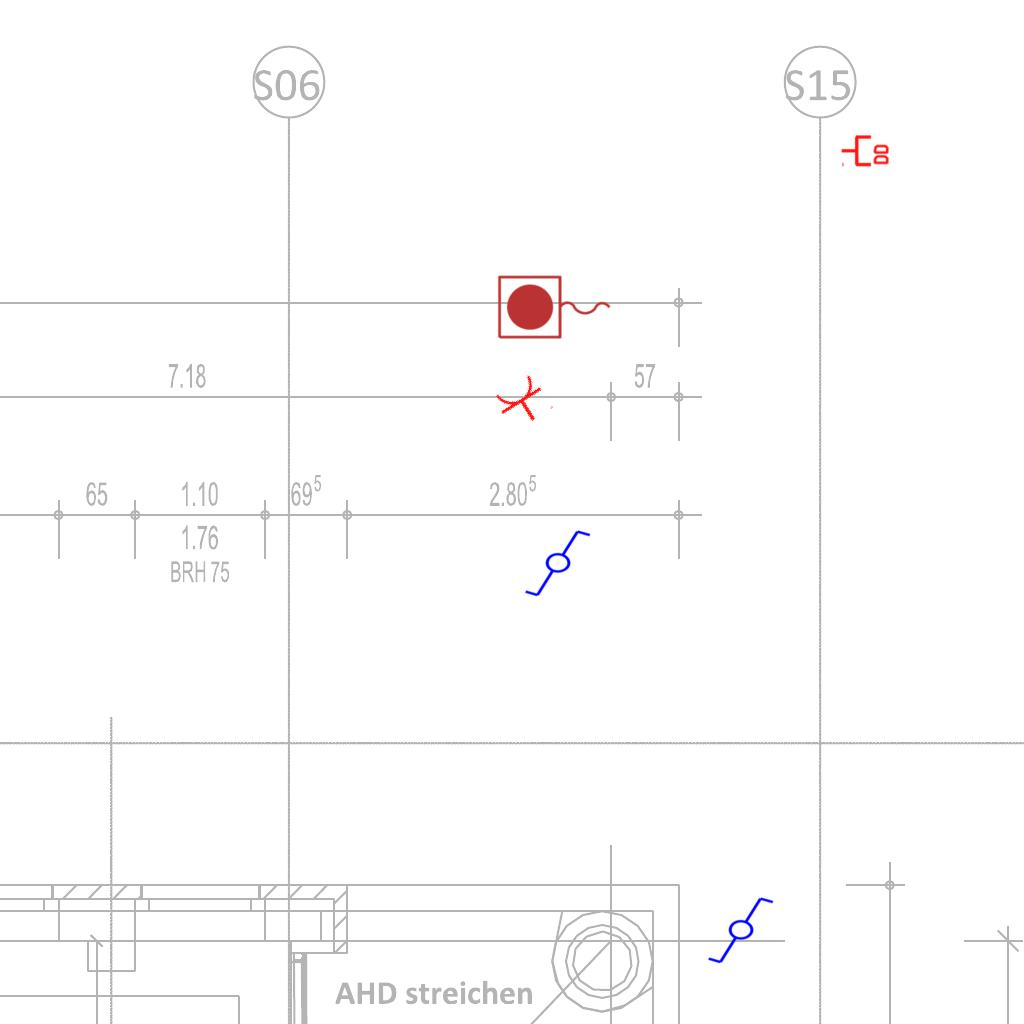Datenanschluss_zweifach: (840, 133, 891, 167)
Schukosteckdose_einfach: (490, 370, 557, 434)
Wechselschalter: (706, 895, 784, 967), (523, 528, 601, 600)
Zugtaster: (494, 272, 616, 344)
